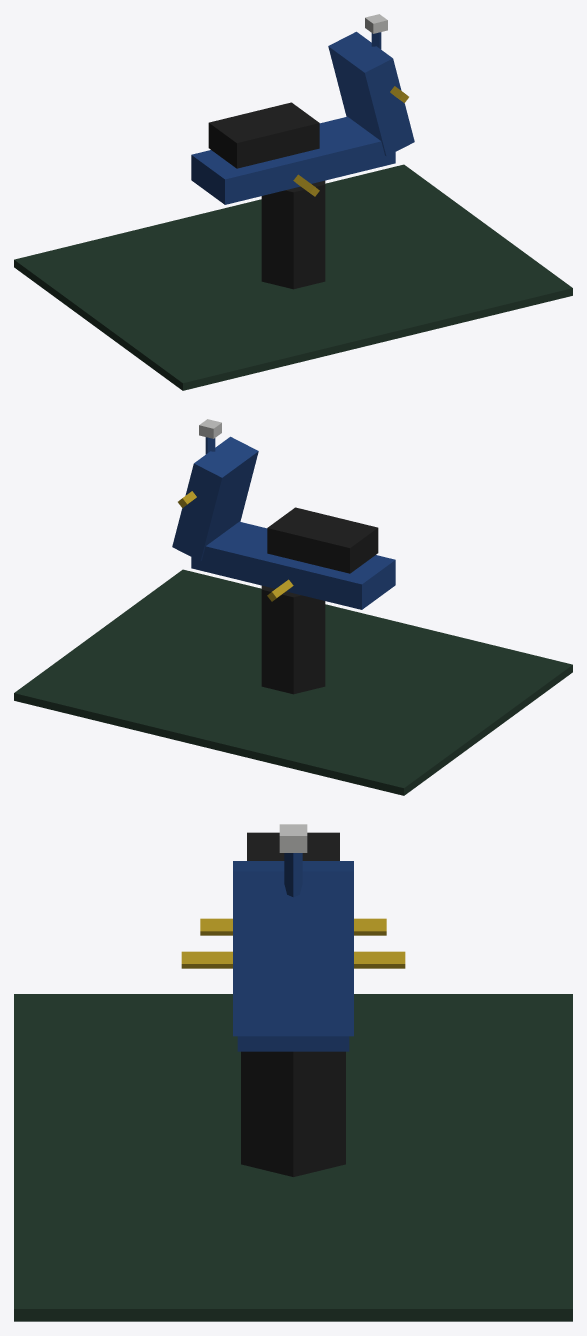
File: SM_Prop_play_springer_1_LOD1.glb
3 views of the same model, one above another, from view 1: azimuth 30°, elevation 25°; view 2: azimuth 150°, elevation 25°; view 3: azimuth 270°, elevation 25° (orthographic). The views are drawn at different scales.
Visible parts, largest first — view 1: SM_Prop_play_springer_1_LOD1; view 2: SM_Prop_play_springer_1_LOD1; view 3: SM_Prop_play_springer_1_LOD1.
Boxes of the visible parts, x1,y1,x2,y2 form: SM_Prop_play_springer_1_LOD1: (14,14,572,390); SM_Prop_play_springer_1_LOD1: (14,419,572,795); SM_Prop_play_springer_1_LOD1: (14,824,572,1321).
Size of the model in its own units: 1.6 by 0.95 by 1.2.
